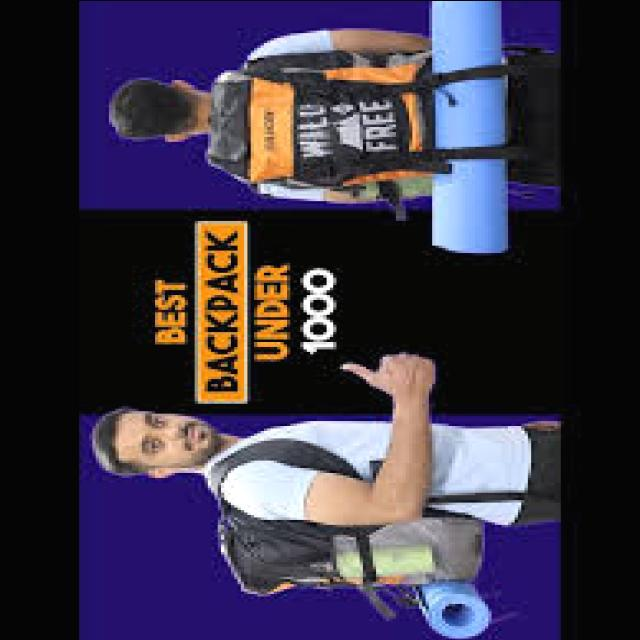backpack: (201, 45, 534, 209), (209, 441, 486, 597)
